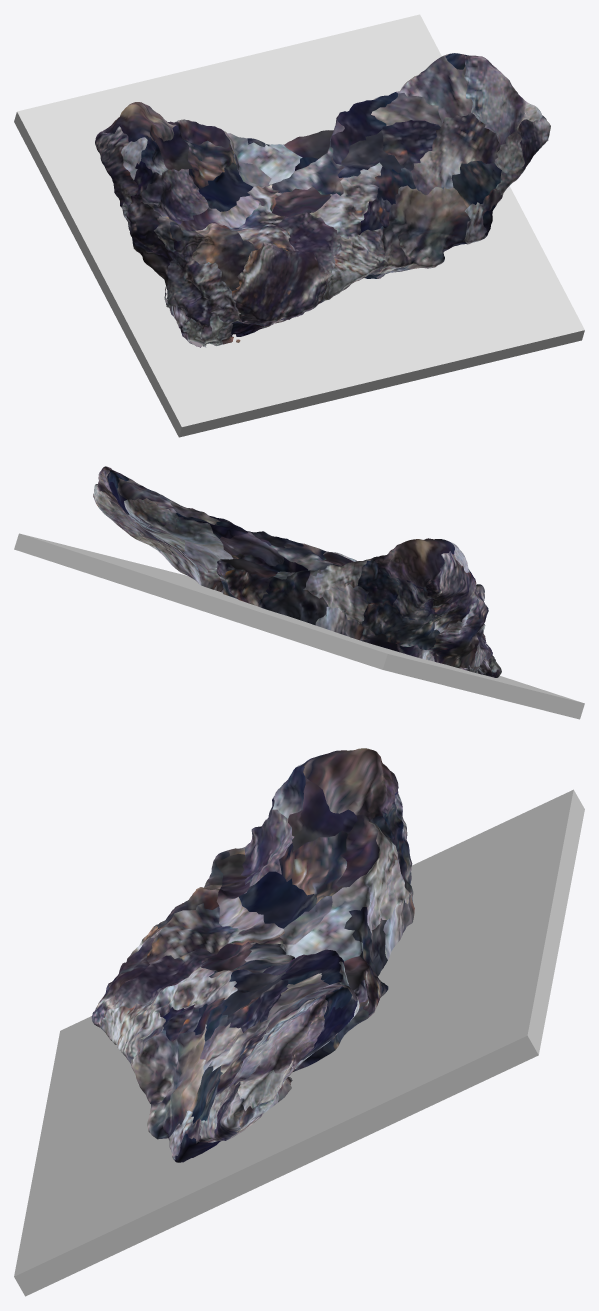
Rendered from BacuCob.glb.
The picture shows the model from 3 angles, top to bottom: view 1: azimuth 30°, elevation 25°; view 2: azimuth 150°, elevation 25°; view 3: azimuth 270°, elevation 25°; orthographic projection. The views are drawn at different scales.
Visible parts, largest first — view 1: Meteorito.002; view 2: Meteorito.002; view 3: Meteorito.002.
Part boxes in pixels (x1,y1,x2,y2): Meteorito.002: (14, 14, 584, 437); Meteorito.002: (14, 466, 584, 719); Meteorito.002: (14, 748, 584, 1296).
Size of the model in its own units: 0.9487 by 0.5103 by 0.7706.
Materials: 4 (3 with a texture image).
